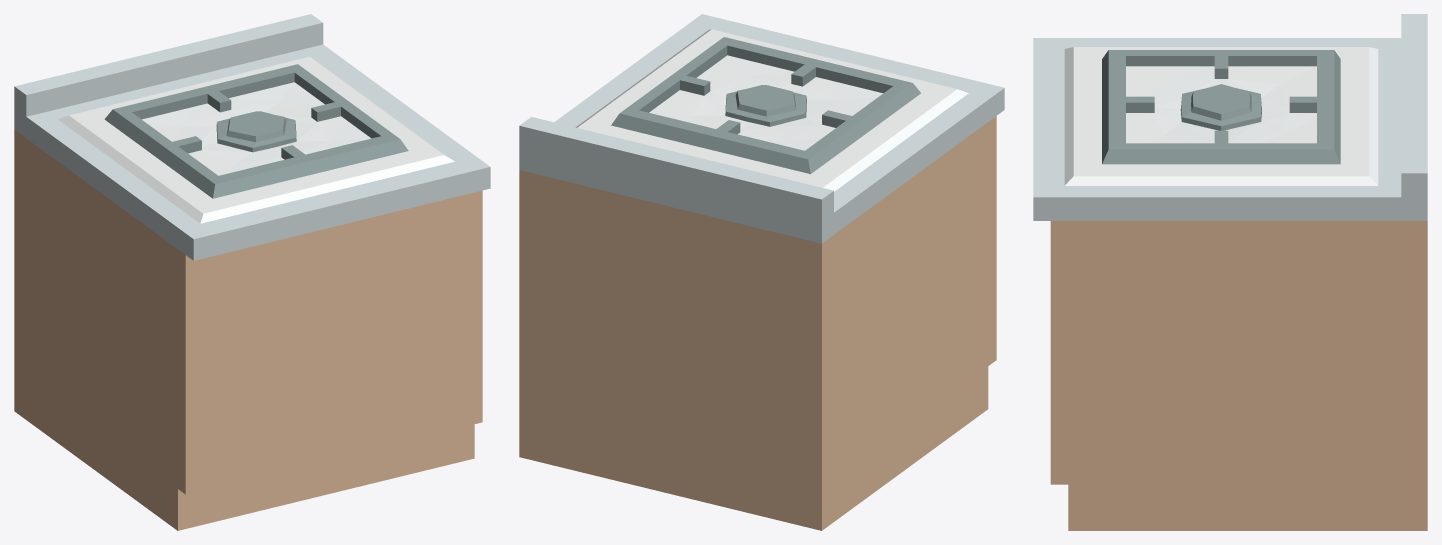
File: StoveSingleBurner.glb
The picture shows the model from 3 angles, left to right: view 1: azimuth 30°, elevation 25°; view 2: azimuth 150°, elevation 25°; view 3: azimuth 270°, elevation 25°; orthographic projection. The views are drawn at different scales.
Parts seen in each view (by area): view 1: kitchenStove(Clone); view 2: kitchenStove(Clone); view 3: kitchenStove(Clone).
Part boxes in pixels (x1,y1,x2,y2): kitchenStove(Clone): [14, 14, 490, 530]; kitchenStove(Clone): [519, 14, 1004, 530]; kitchenStove(Clone): [1033, 14, 1427, 530].
Size of the model in its own units: 0.43 by 0.45 by 0.45.
